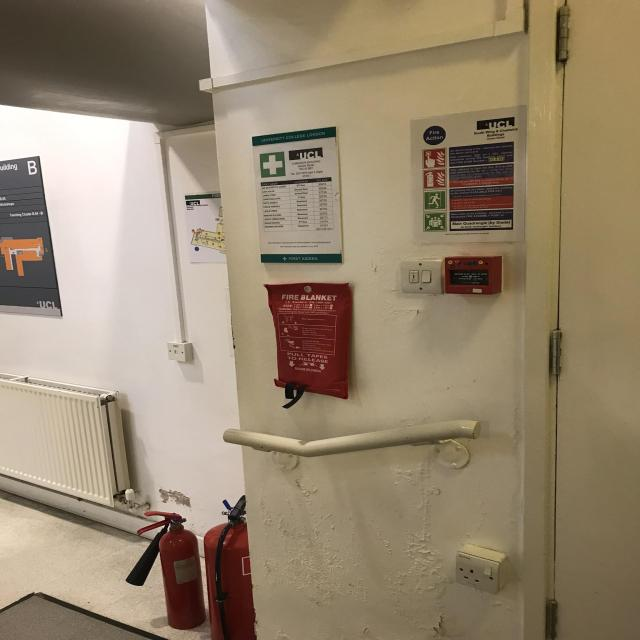fire_extinguisher: (122, 507, 210, 632), (200, 488, 268, 640)
